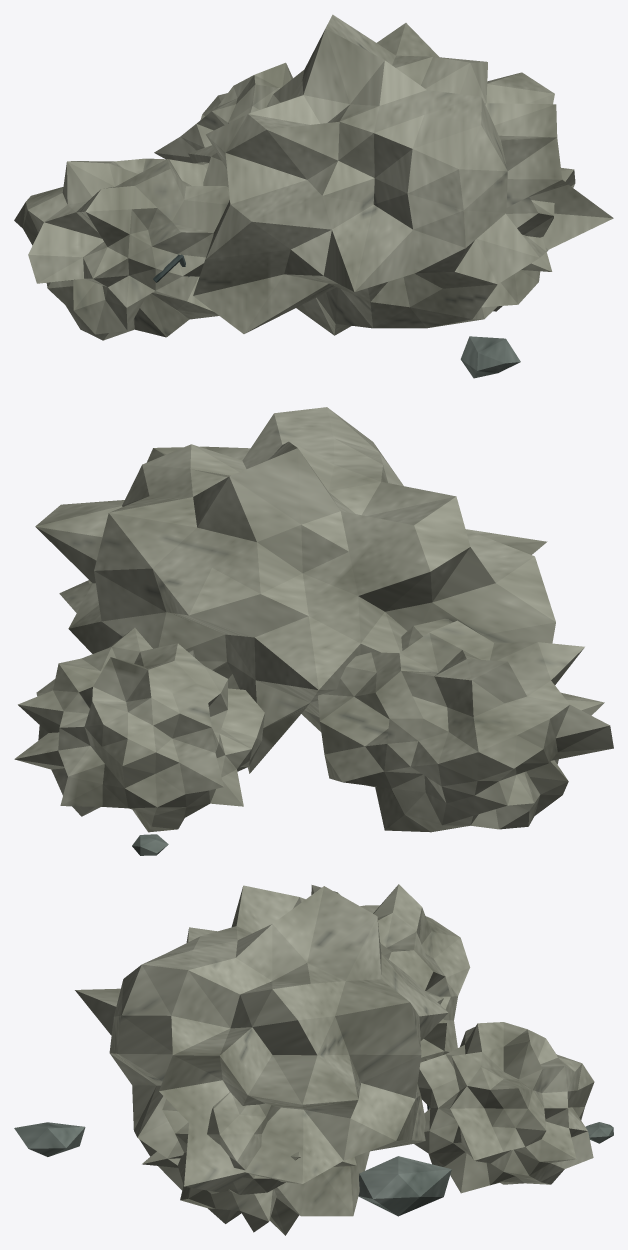
File: 0004_boulder_04.glb
The picture shows the model from 3 angles, top to bottom: view 1: azimuth 30°, elevation 25°; view 2: azimuth 150°, elevation 25°; view 3: azimuth 270°, elevation 25°; orthographic projection. The views are drawn at different scales.
Parts seen in each view (by area): view 1: stone_light, stone; view 2: stone_light; view 3: stone_light, stone.
Part boxes in pixels (left/top/right/bottom): stone_light: left=14, top=14, right=613, bottom=340; stone: left=460, top=336, right=520, bottom=378; stone_light: left=14, top=407, right=613, bottom=832; stone_light: left=75, top=884, right=594, bottom=1235; stone: left=14, top=1122, right=613, bottom=1216.
Size of the model in its own units: 2.59 by 1.42 by 2.65.
Materials: 3 (3 with a texture image).
